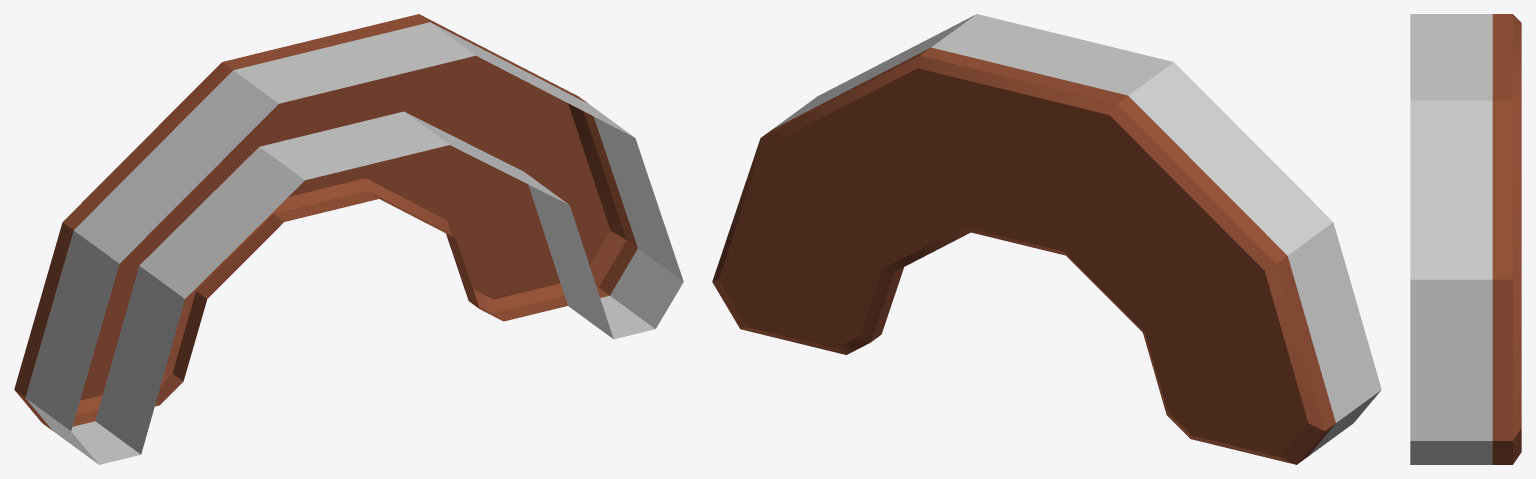
File: Reception Desk 01.FBX
3 renders of one model, left to right at view 1: azimuth 30°, elevation 25°; view 2: azimuth 150°, elevation 25°; view 3: azimuth 270°, elevation 25°, orthographic. The views are drawn at different scales.
Parts seen in each view (by area): view 1: Reception Desk 01; view 2: Reception Desk 01; view 3: Reception Desk 01.
Boxes of the visible parts, box(x1,y1,x2,y2) form: Reception Desk 01: box(14, 14, 683, 464); Reception Desk 01: box(712, 14, 1381, 464); Reception Desk 01: box(1410, 14, 1521, 464).
Size of the model in its own units: 399 by 197 by 69.76.
1 material, 1 textured.
